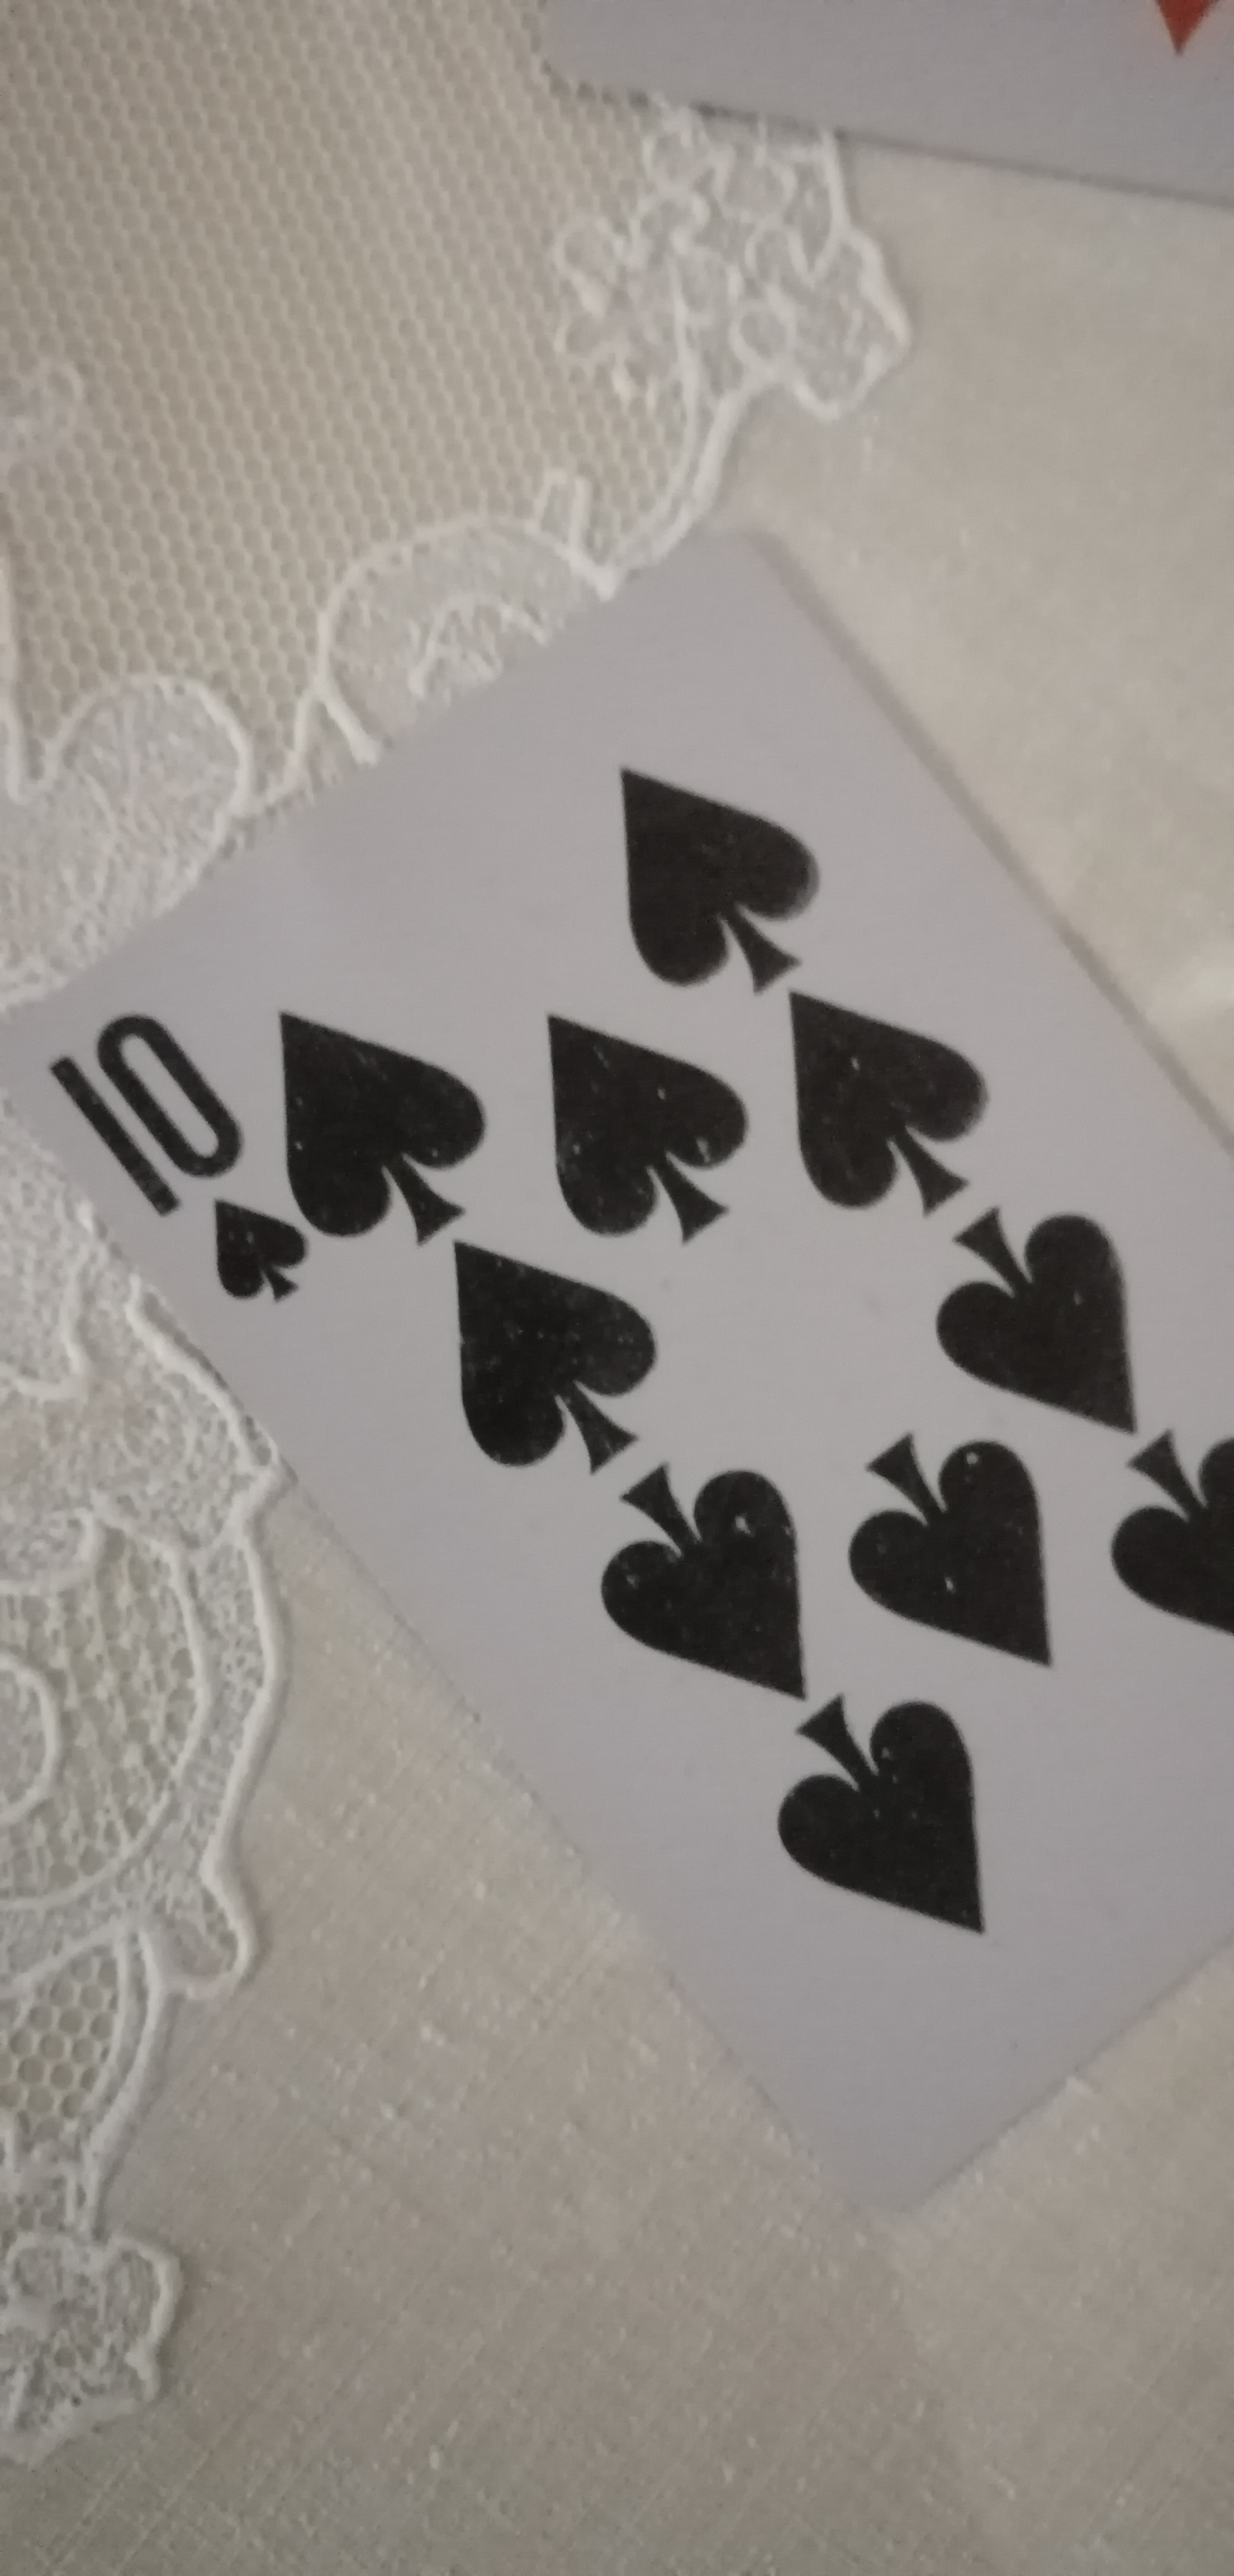ten: (35, 563, 1234, 2034)
